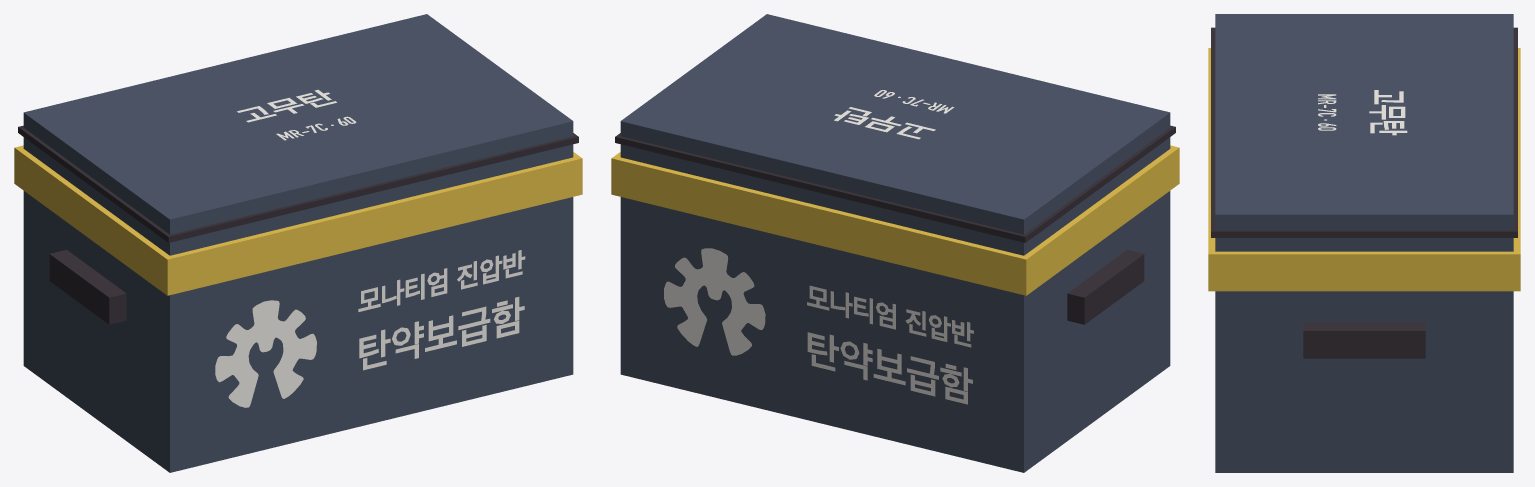
The model's file is monatium_ammo_crate.glb.
3 renders of one model, left to right at view 1: azimuth 30°, elevation 25°; view 2: azimuth 150°, elevation 25°; view 3: azimuth 270°, elevation 25°, orthographic.
Visible parts, largest first — view 1: monatium_ammo_crate_navy_l, monatium_ammo_crate_hazard_detail, monatium_ammo_crate_white_fine, monatium_ammo_crate_dark_detail; view 2: monatium_ammo_crate_navy_l, monatium_ammo_crate_hazard_detail, monatium_ammo_crate_white_fine, monatium_ammo_crate_dark_detail; view 3: monatium_ammo_crate_navy_l, monatium_ammo_crate_hazard_detail, monatium_ammo_crate_dark_detail, monatium_ammo_crate_white_fine.
Part boxes in pixels (x1,y1,x2,y2): monatium_ammo_crate_navy_l: [23, 14, 573, 472]; monatium_ammo_crate_hazard_detail: [14, 145, 582, 295]; monatium_ammo_crate_white_fine: [215, 89, 525, 407]; monatium_ammo_crate_dark_detail: [18, 125, 578, 324]; monatium_ammo_crate_navy_l: [620, 14, 1170, 472]; monatium_ammo_crate_hazard_detail: [611, 145, 1179, 295]; monatium_ammo_crate_white_fine: [664, 90, 973, 404]; monatium_ammo_crate_dark_detail: [615, 125, 1175, 324]; monatium_ammo_crate_navy_l: [1215, 14, 1513, 472]; monatium_ammo_crate_hazard_detail: [1208, 48, 1520, 291]; monatium_ammo_crate_dark_detail: [1211, 27, 1517, 358]; monatium_ammo_crate_white_fine: [1318, 90, 1407, 135].
Size of the model in its own units: 0.76 by 0.423 by 0.46.
